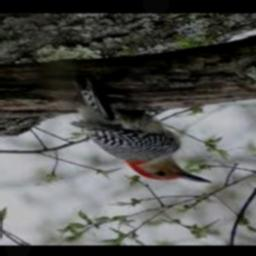Woodpecker: (71, 77, 213, 183)
